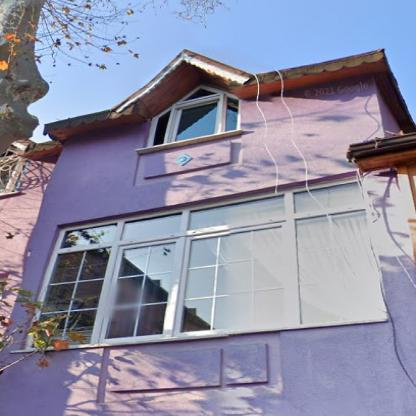window: (36, 179, 386, 343), (152, 86, 238, 147)
